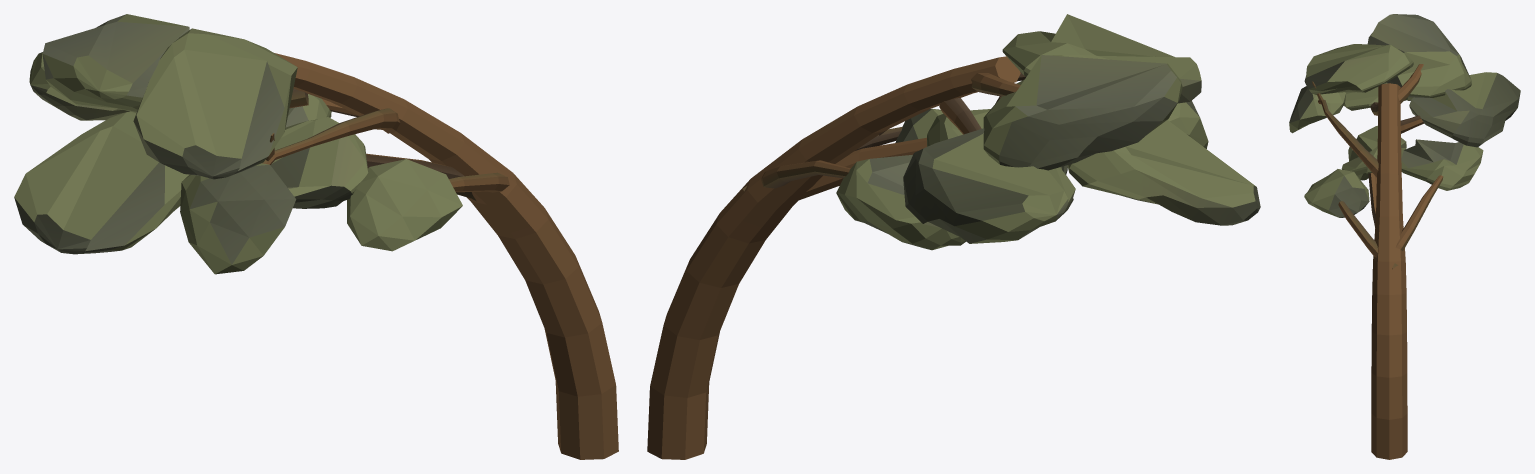
The model's file is Tree60Bend_Summer.fbx.
The picture shows the model from 3 angles, left to right: view 1: azimuth 30°, elevation 25°; view 2: azimuth 150°, elevation 25°; view 3: azimuth 270°, elevation 25°; orthographic projection. The views are drawn at different scales.
Visible parts, largest first — view 1: TreeBend60.002; view 2: TreeBend60.002; view 3: TreeBend60.002.
Part boxes in pixels (box(x1,y1,x2,y2)): TreeBend60.002: box(14, 14, 618, 459); TreeBend60.002: box(647, 14, 1260, 459); TreeBend60.002: box(1289, 14, 1520, 459).
Bounding box in the file's own units: 742 × 608 × 430.
